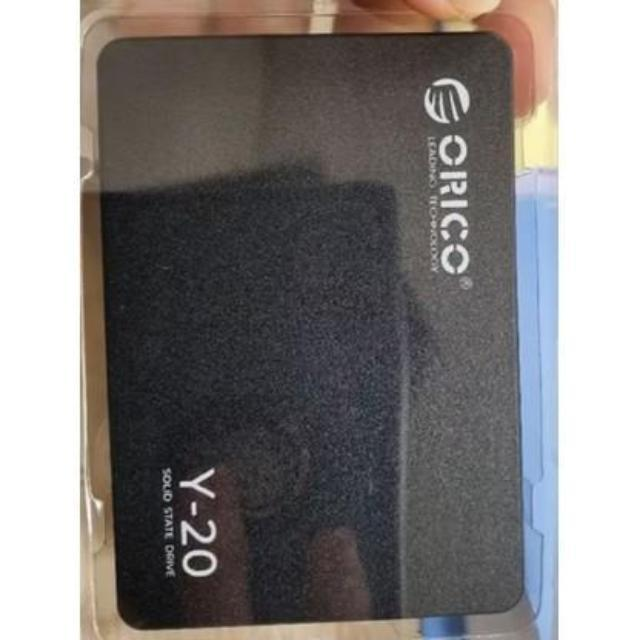DISK: (86, 23, 538, 629)
